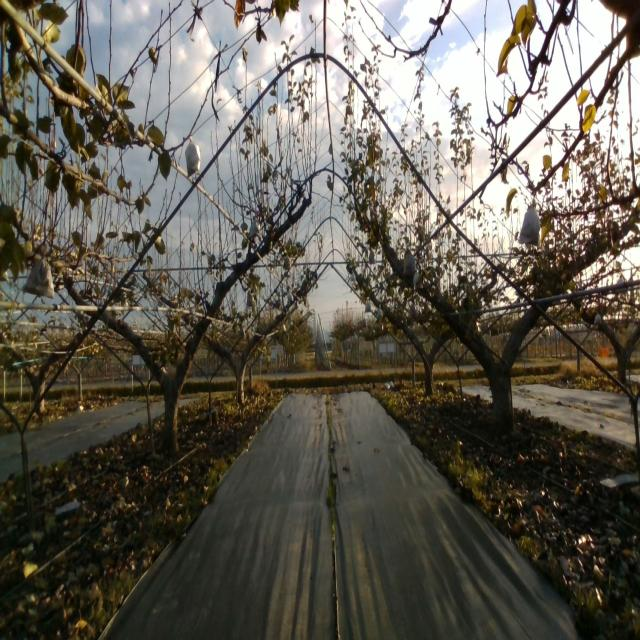pearbags: (518, 198, 541, 246), (185, 135, 201, 178), (248, 213, 264, 242), (403, 251, 416, 276), (414, 272, 424, 290)
